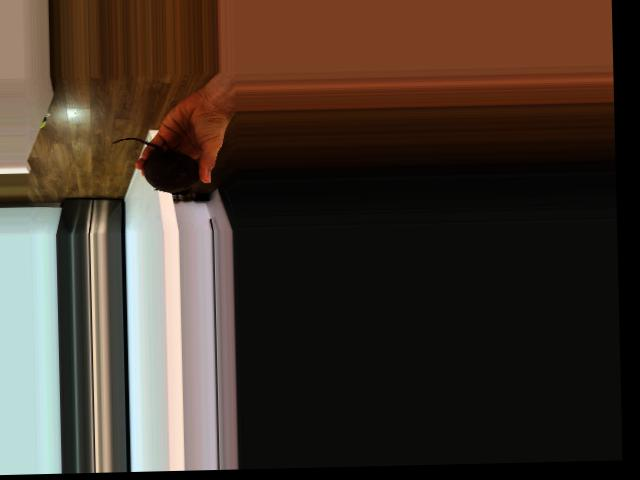beet: (111, 136, 199, 196)
